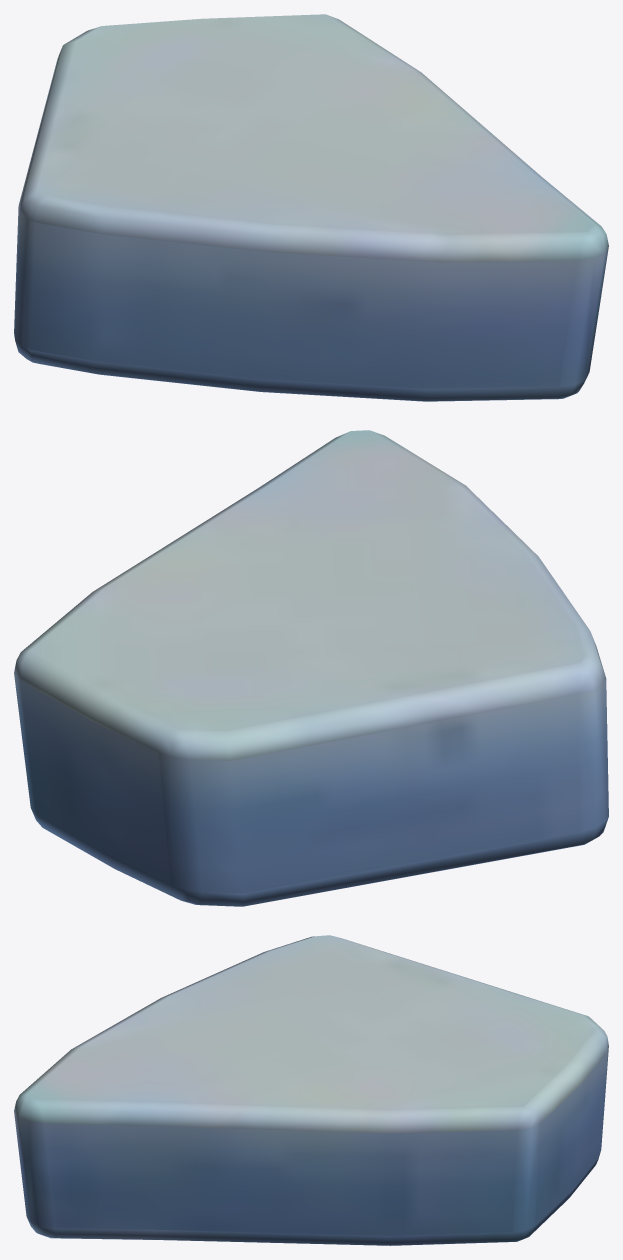
The picture shows the model from 3 angles, top to bottom: view 1: azimuth 30°, elevation 25°; view 2: azimuth 150°, elevation 25°; view 3: azimuth 270°, elevation 25°; orthographic projection. The views are drawn at different scales.
Parts seen in each view (by area): view 1: body0_model0_lod0_mesh0; view 2: body0_model0_lod0_mesh0; view 3: body0_model0_lod0_mesh0.
Part boxes in pixels (box(x1,y1,x2,y2)): body0_model0_lod0_mesh0: box(14, 14, 608, 401); body0_model0_lod0_mesh0: box(14, 430, 608, 906); body0_model0_lod0_mesh0: box(14, 935, 608, 1245).
Bounding box in the file's own units: 49.51 × 18.5 × 67.25.
1 material, 1 textured.
